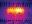Hotspot: (10, 6, 24, 15)
